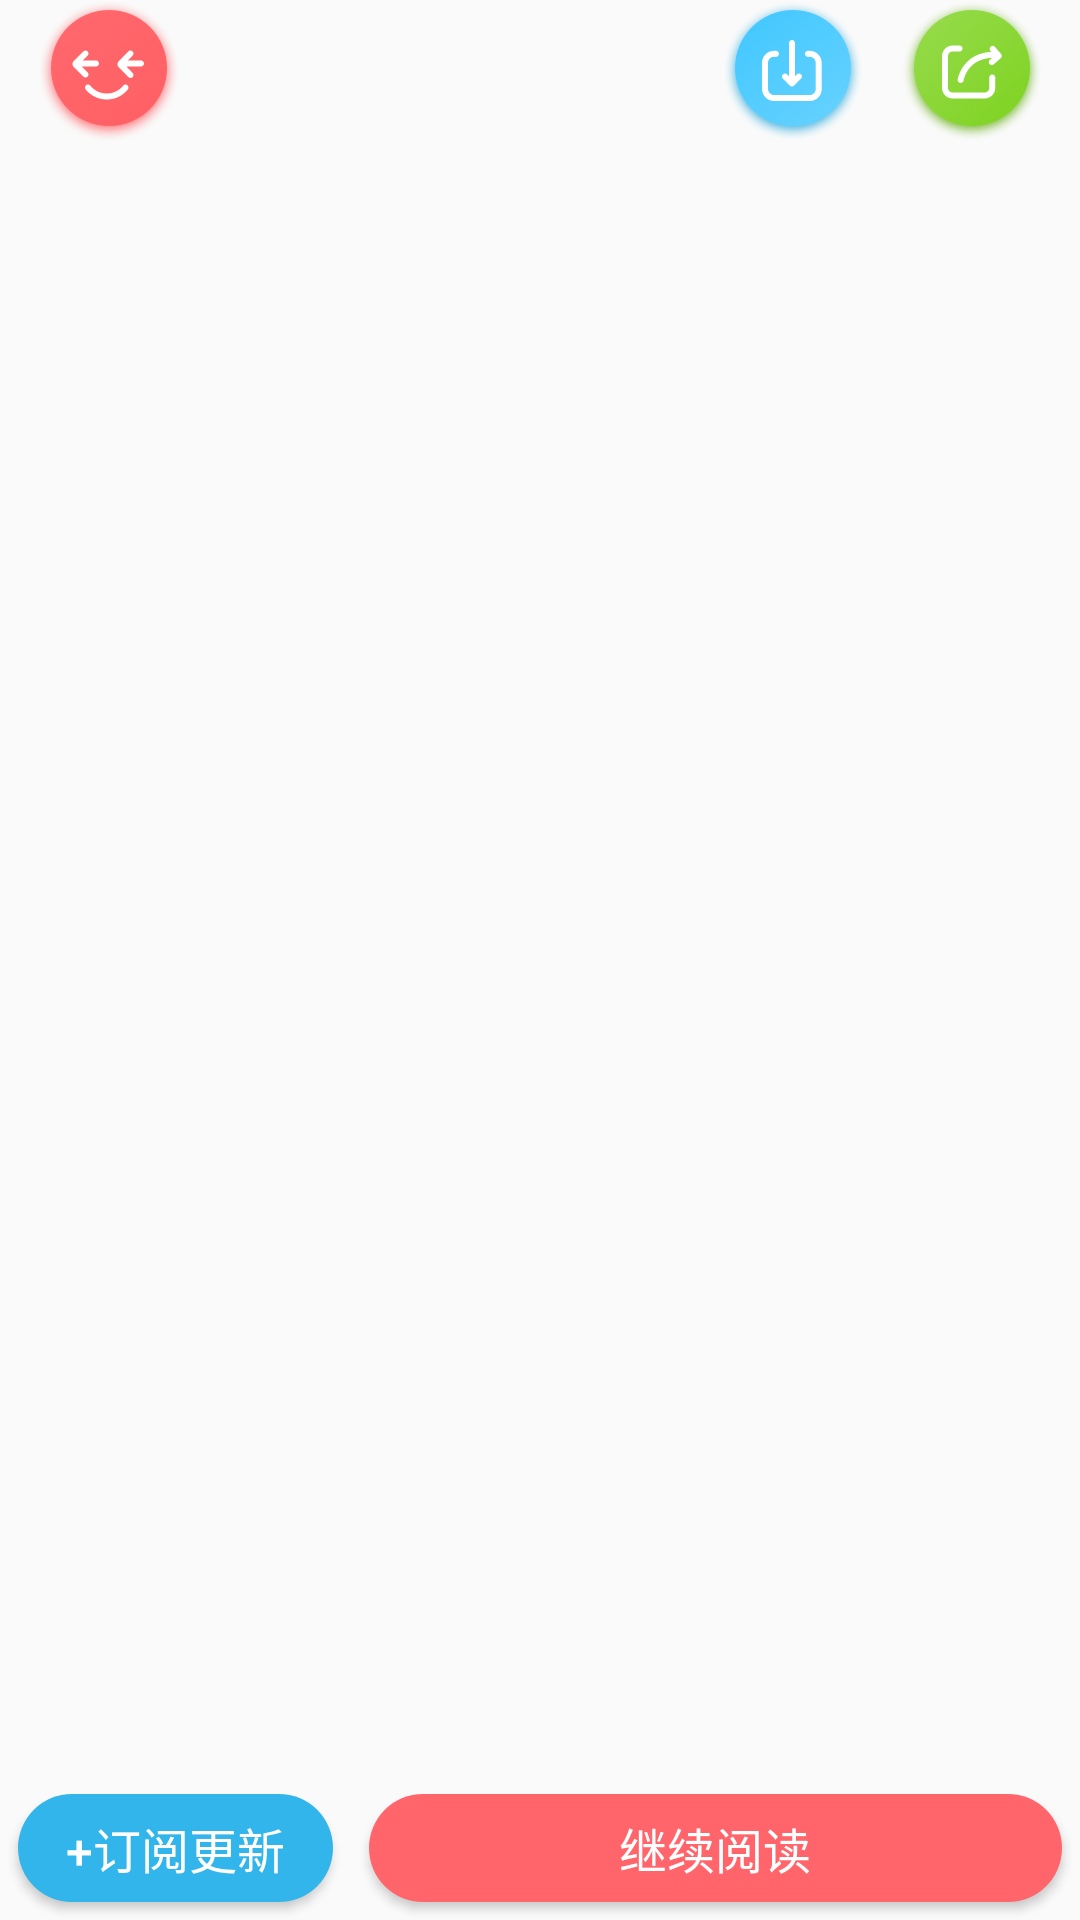

Screen size 1080px x 1920px. Icon name, then its box in pixels as {"x1": x1, "y1": y1, "x2": x2, "y2": y2}:
titlebar back: {"x1": 45, "y1": 7, "x2": 173, "y2": 135}
titlebar download: {"x1": 729, "y1": 7, "x2": 857, "y2": 135}
titlebar share: {"x1": 907, "y1": 6, "x2": 1037, "y2": 136}
